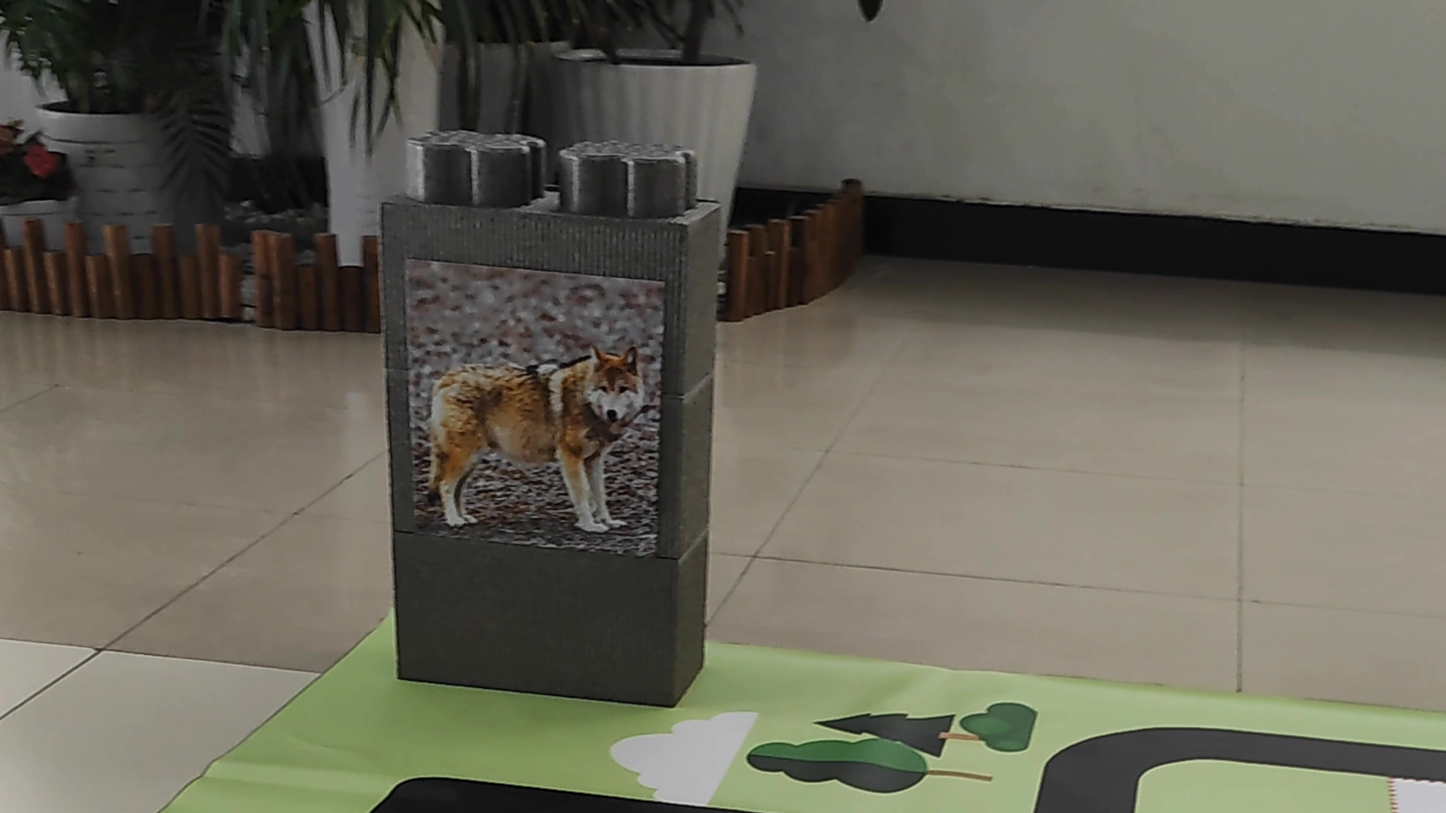wolf: (404, 298, 662, 540)
